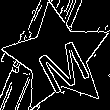M_NW: (26, 25, 90, 91)
